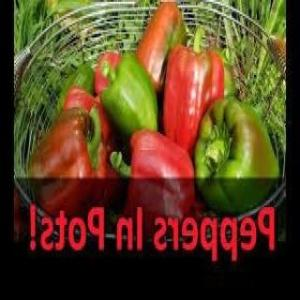bell_pepper: (98, 48, 160, 146)
